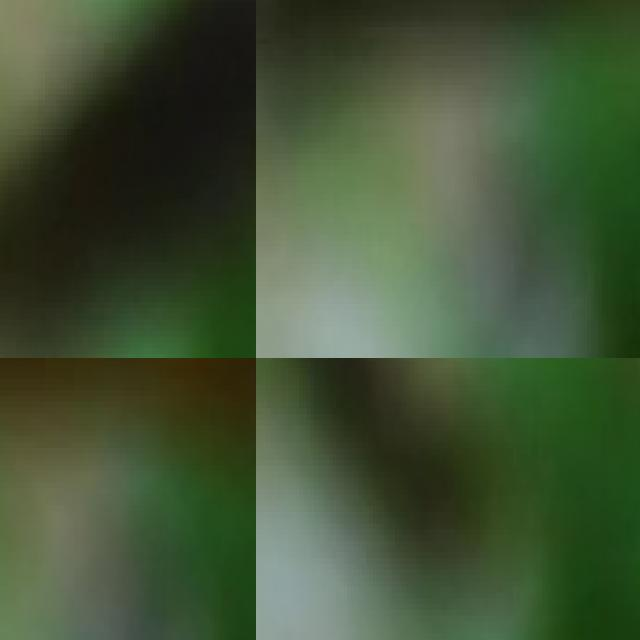fish: (0, 0, 256, 358), (0, 358, 256, 476)
